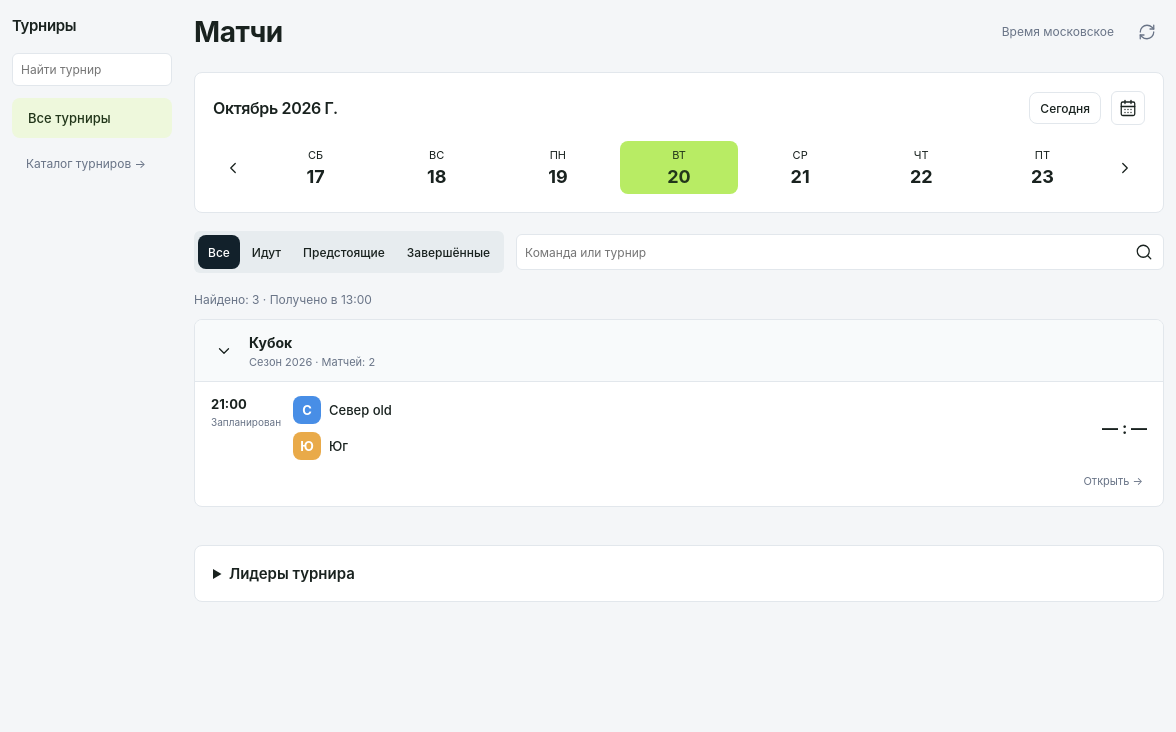
Scenario: does not show a stale day under a newly selected date
This screenshot has width=1176, height=732.
Expected: the text "Север old" is shown, [329,402,392,418]
Click the button named "Следующий день".
click(1125, 168)  # box [1105,148,1145,188]
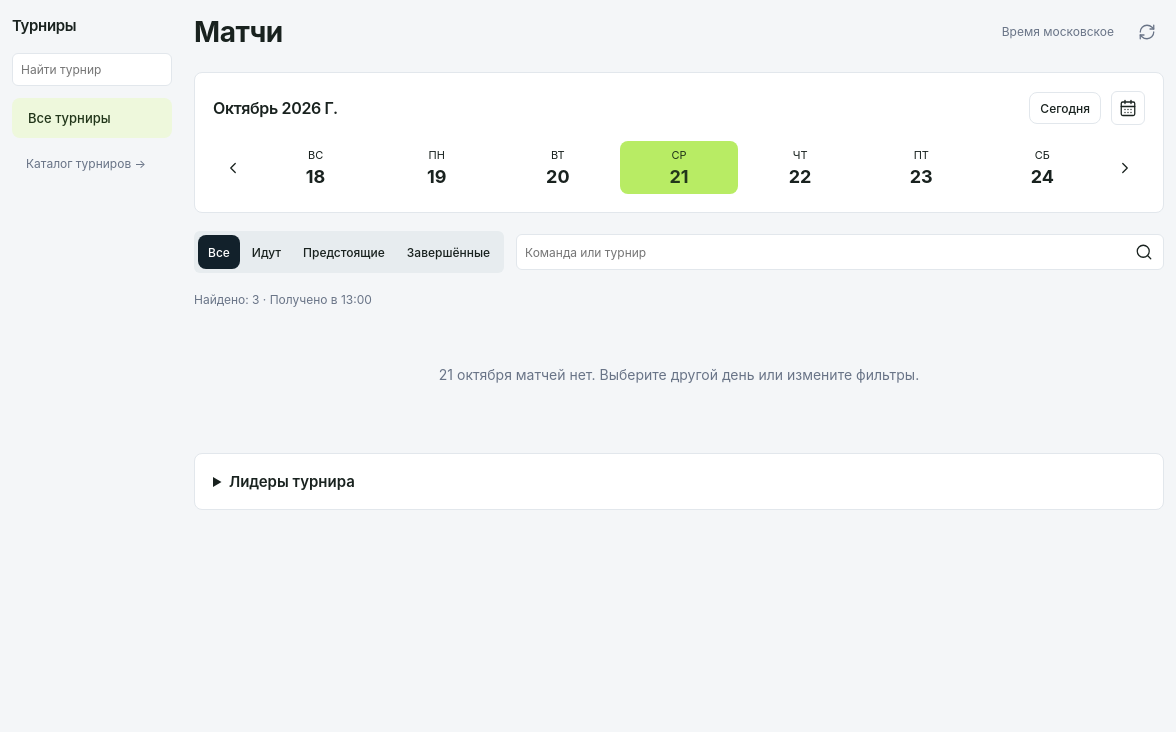
Result: the link "Север old" is gone
Result: the text "матчей нет" is shown at [512,366,919,383]
